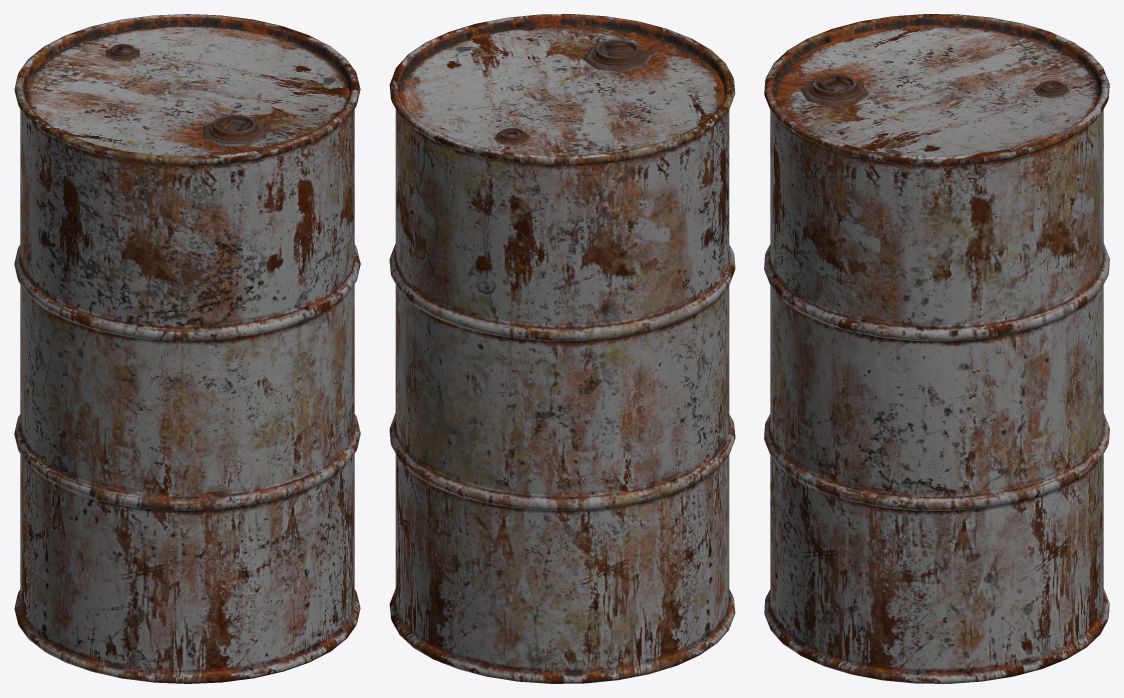
The model's file is ThungSatTrang.fbx.
The picture shows the model from 3 angles, left to right: view 1: azimuth 30°, elevation 25°; view 2: azimuth 150°, elevation 25°; view 3: azimuth 270°, elevation 25°; orthographic projection.
Parts seen in each view (by area): view 1: Barrel1_low.001; view 2: Barrel1_low.001; view 3: Barrel1_low.001.
Part boxes in pixels (x1,y1,x2,y2): Barrel1_low.001: (14,14,360,683); Barrel1_low.001: (389,14,735,683); Barrel1_low.001: (764,14,1109,683).
Bounding box in the file's own units: 63.69 × 107 × 63.69.
Materials: 2 (2 with a texture image).
